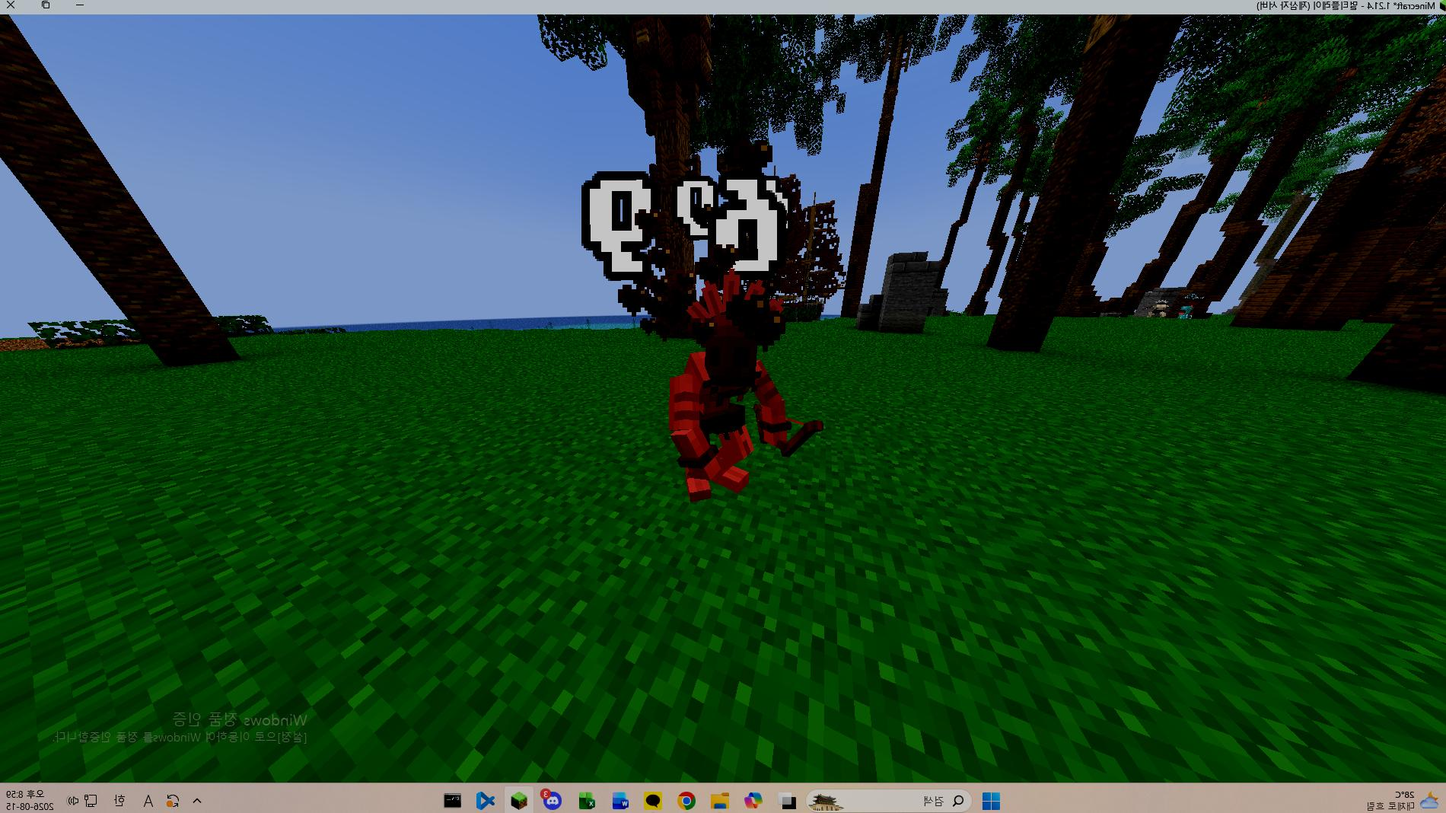bow_indian: (596, 257, 869, 505)
